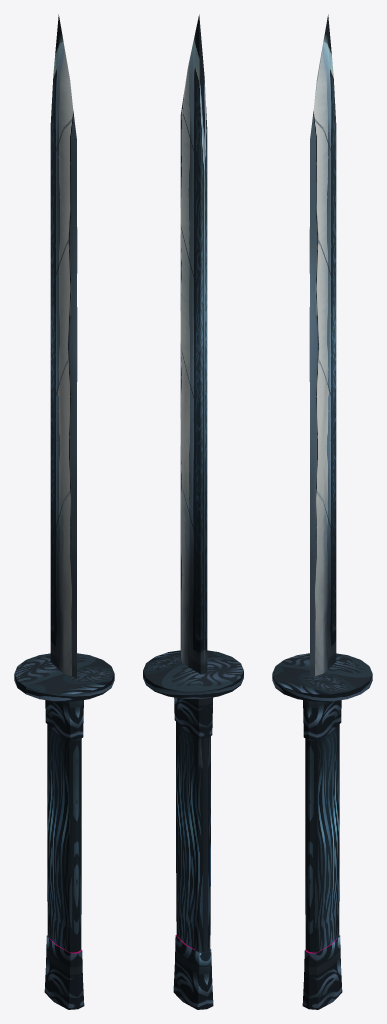
Rendered from lengfeng.FBX.
3 renders of one model, left to right at view 1: azimuth 30°, elevation 25°; view 2: azimuth 210°, elevation 25°; view 3: azimuth 330°, elevation 25°, orthographic.
Parts seen in each view (by area): view 1: Object55; view 2: Object55; view 3: Object55.
Boxes of the visible parts, x1,y1,x2,y2 form: Object55: [14, 14, 114, 1009]; Object55: [143, 14, 243, 1009]; Object55: [272, 14, 372, 1009].
Size of the model in its own units: 8.77 by 96.27 by 8.9.
Materials: 1 (1 with a texture image).
